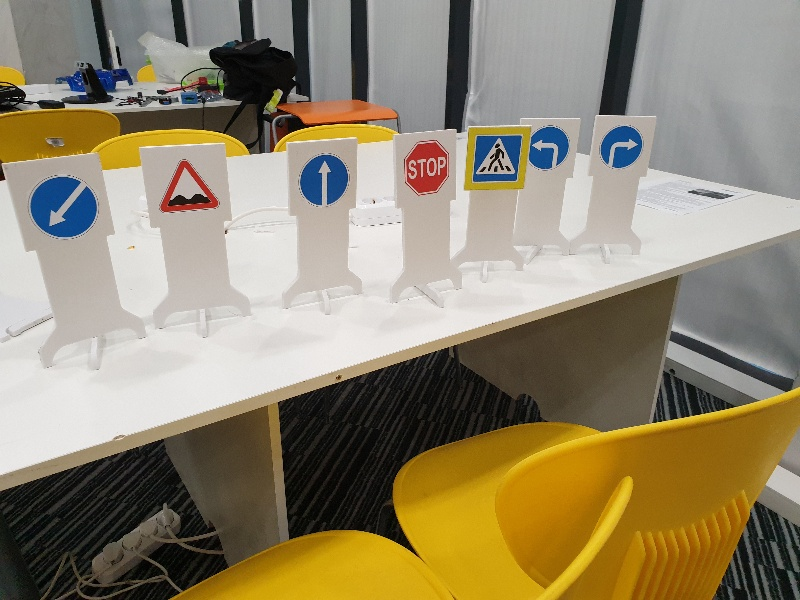Left: (528, 123, 571, 173)
Nerov: (154, 153, 225, 221)
Right: (598, 123, 644, 174)
Stop: (400, 137, 452, 200)
forw: (296, 148, 353, 211)
pesh: (469, 130, 523, 187)
prep: (21, 172, 101, 241)
